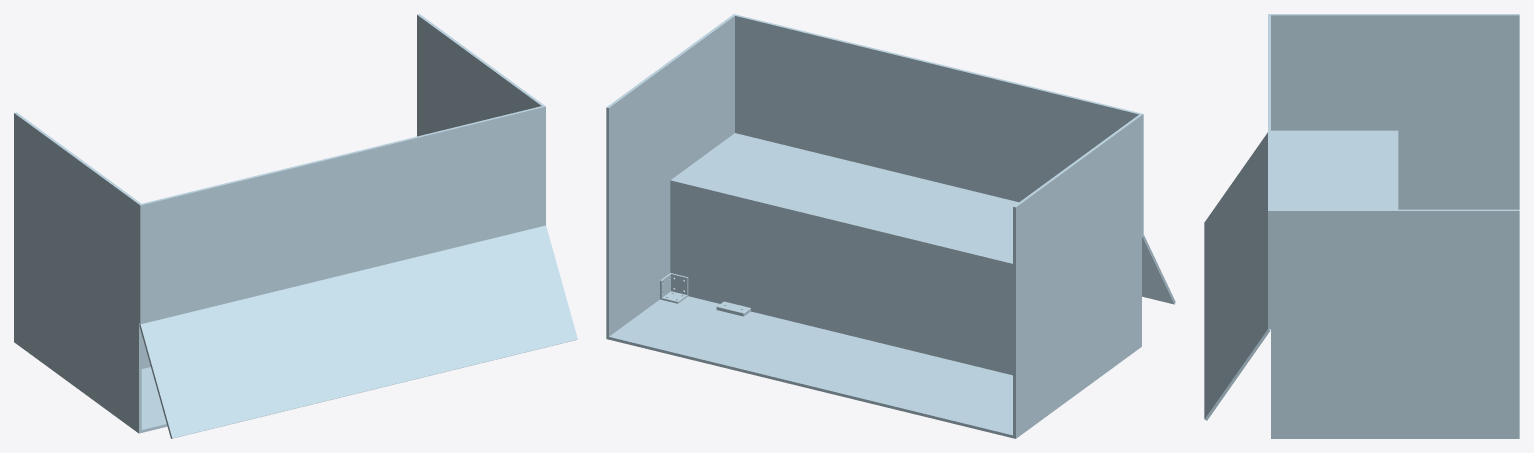
Rendered from couvercle.gltf.
The picture shows the model from 3 angles, left to right: view 1: azimuth 30°, elevation 25°; view 2: azimuth 150°, elevation 25°; view 3: azimuth 270°, elevation 25°; orthographic projection.
Visible parts, largest first — view 1: Part 1 (×11); view 2: Part 1 (×18); view 3: Part 1 (×11).
Boxes of the visible parts, box(x1,y1,x2,y2) form: Part 1 (×11): box(14, 14, 577, 438); Part 1 (×18): box(606, 14, 1175, 438); Part 1 (×11): box(1204, 14, 1519, 438).
Size of the model in its own units: 0.75 by 0.405 by 0.5071.
